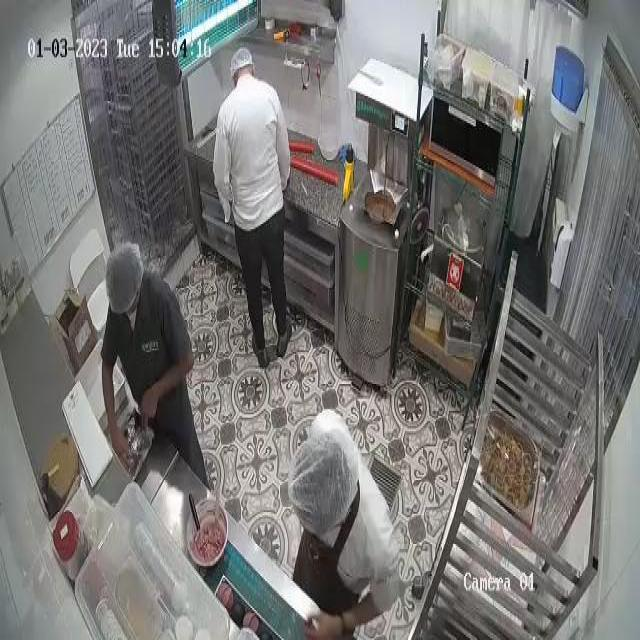hairnet: (292, 427, 356, 522), (108, 248, 141, 304), (229, 48, 253, 70)
